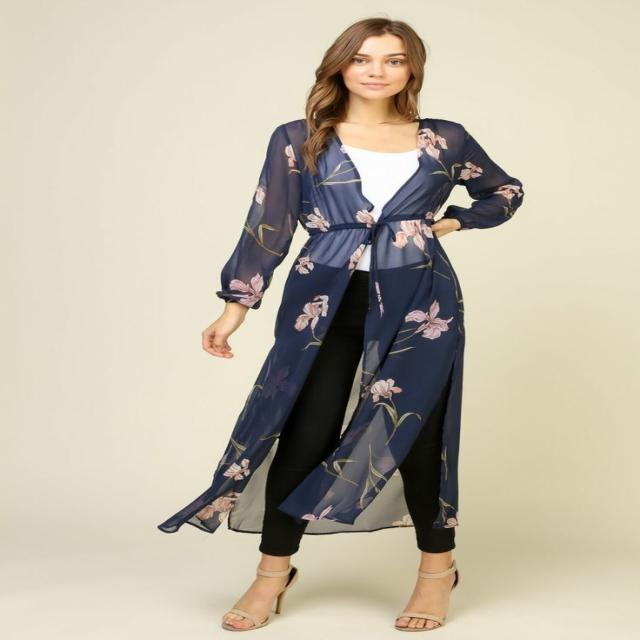female-dress: (237, 115, 513, 539)
